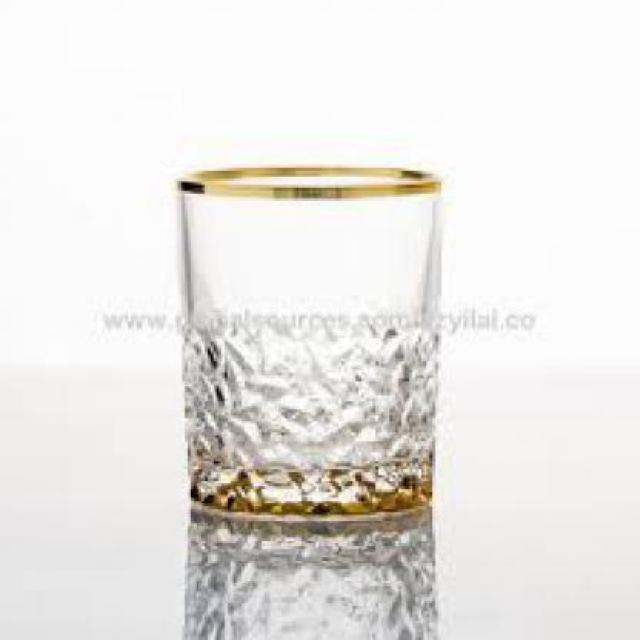kaca: (177, 164, 438, 516)
